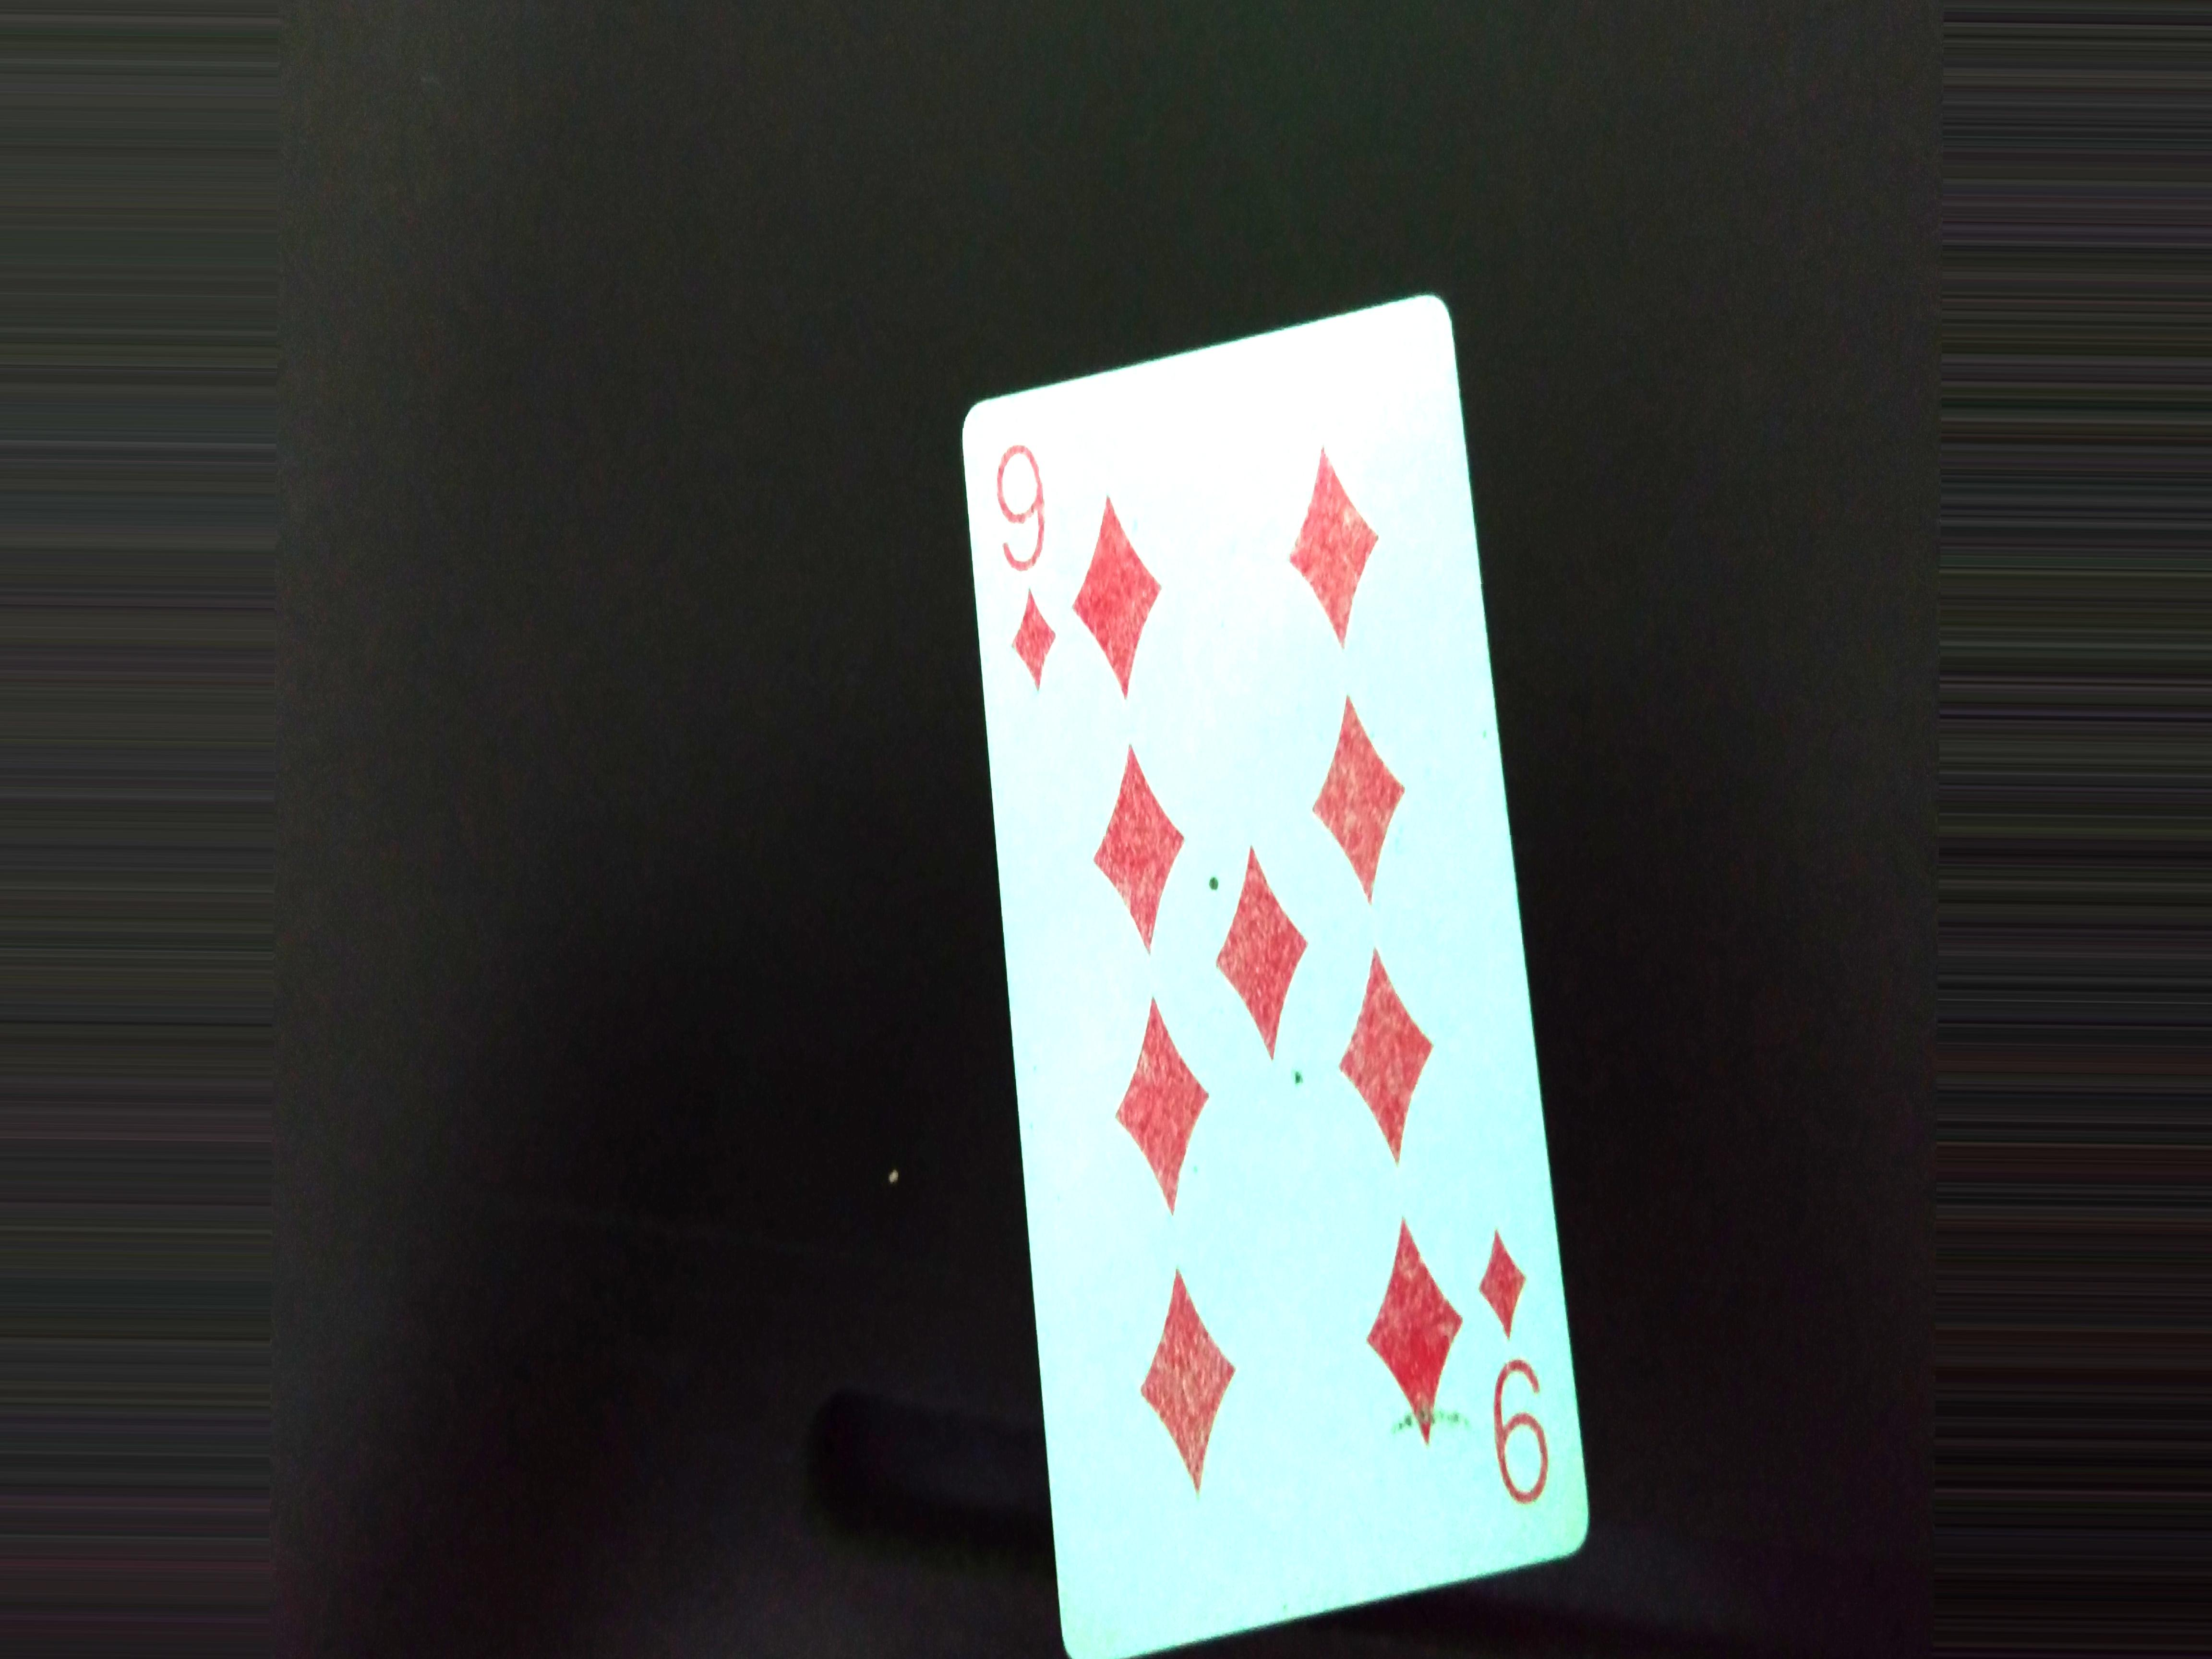9D: (979, 434, 1104, 727)
